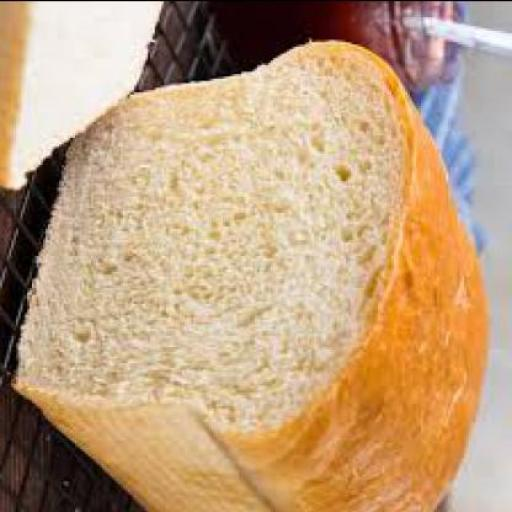biodegradable: (18, 42, 496, 512), (3, 2, 166, 194)
glass: (214, 2, 464, 94)
metal: (400, 16, 512, 59)
